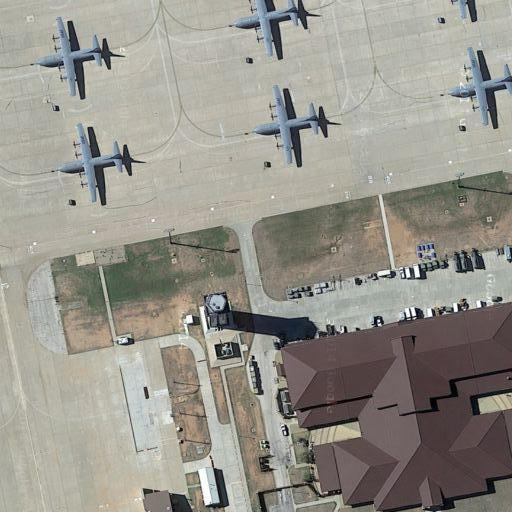C-130: (34, 17, 123, 99), (57, 117, 135, 209), (254, 79, 329, 169), (454, 47, 510, 126), (234, 3, 309, 56)
